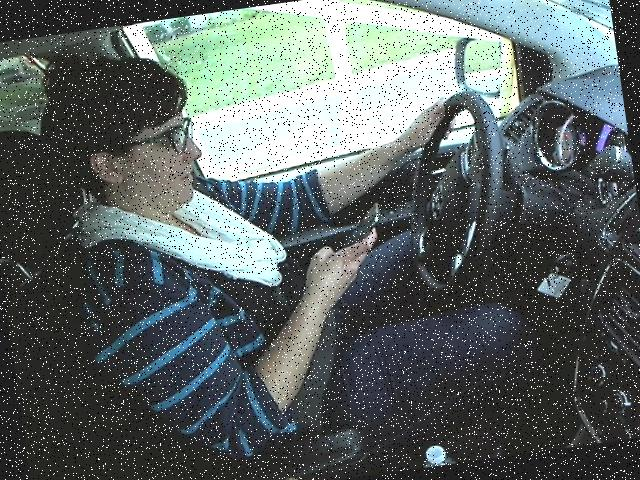c1 - Texting: (28, 0, 549, 475)
